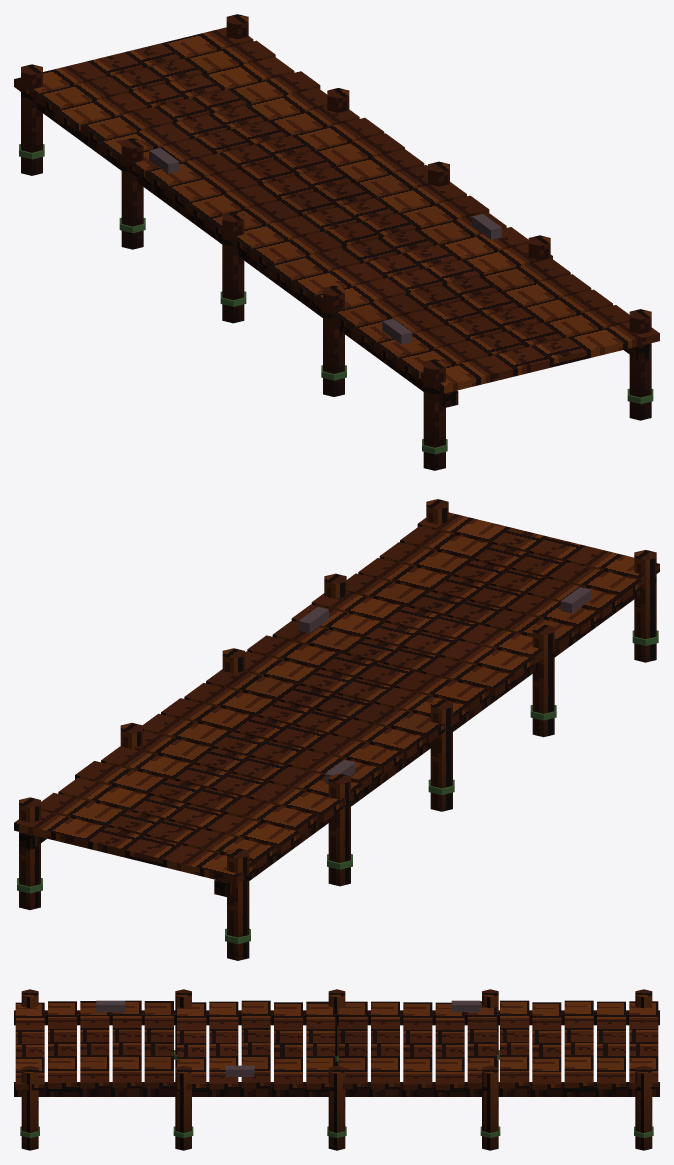
File: pier.glb
3 renders of one model, top to bottom at view 1: azimuth 30°, elevation 25°; view 2: azimuth 150°, elevation 25°; view 3: azimuth 270°, elevation 25°, orthographic. The views are drawn at different scales.
Visible parts, largest first — view 1: pier; view 2: pier; view 3: pier.
Part boxes in pixels (<box>): pier: <box>14,14,659,470</box>; pier: <box>14,499,659,960</box>; pier: <box>14,989,659,1150</box>.
Size of the model in its own units: 2.52 by 1.05 by 8.
2 materials, 1 textured.
